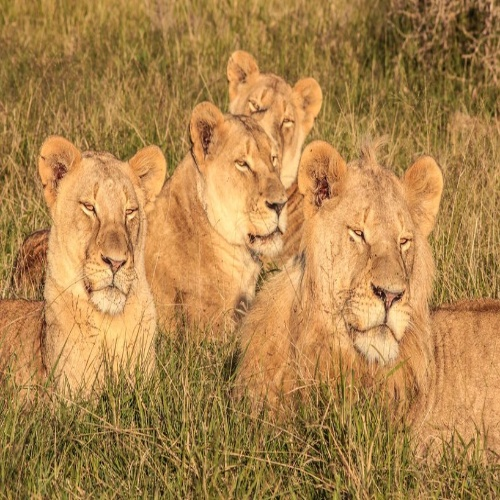lion: (30, 47, 484, 488)
